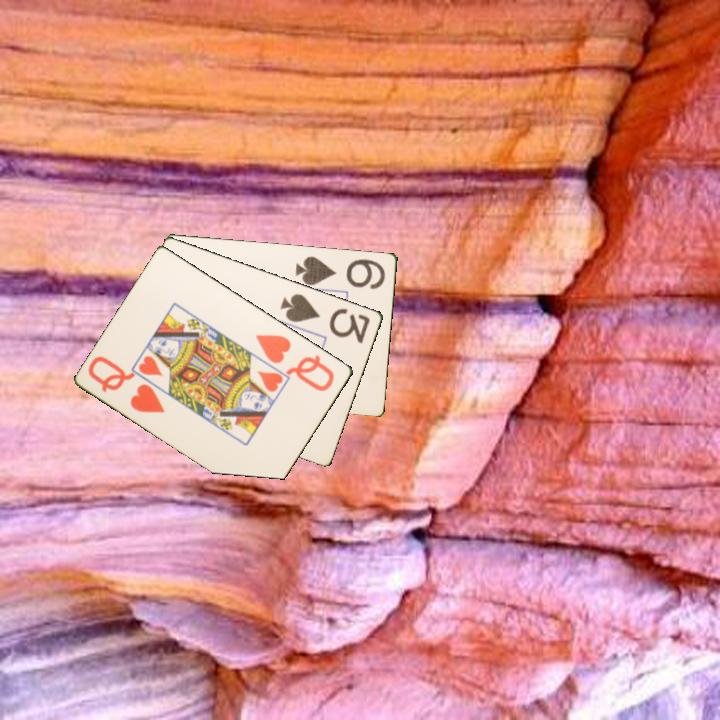3s: (277, 290, 373, 346)
6s: (292, 253, 389, 292)
Qh: (253, 331, 338, 394), (85, 352, 168, 416)
